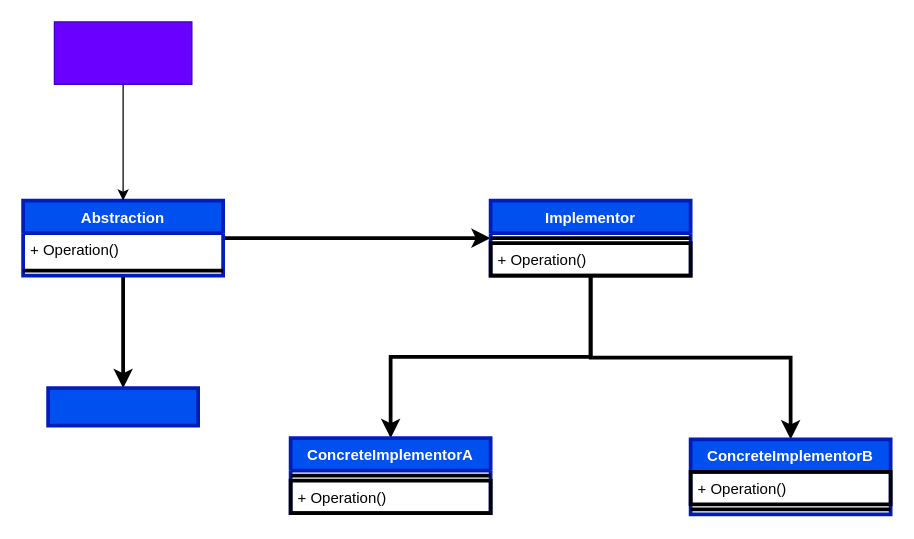
The diagram is 914 pixels wide and 539 high, and some of its shapes have lost their labels. The centre of each missing label's shape, as x and y in pixels:
Client: the point at 122,52
RefineAbstraction: the point at 122,406
